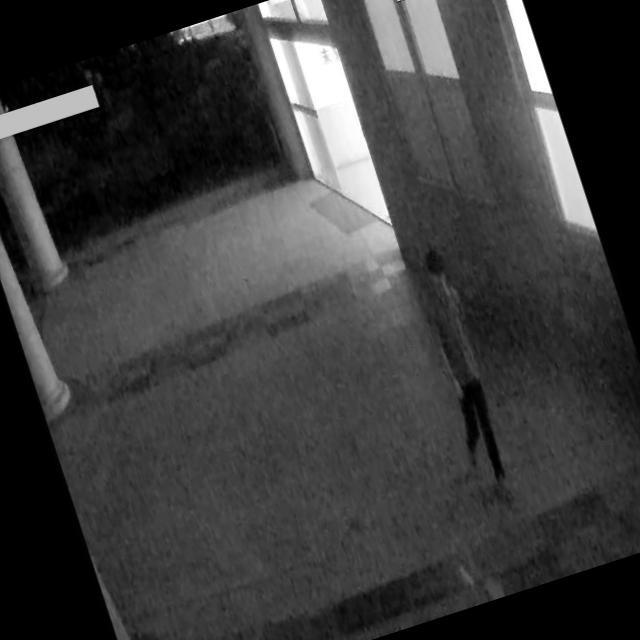person: (402, 239, 528, 513)
